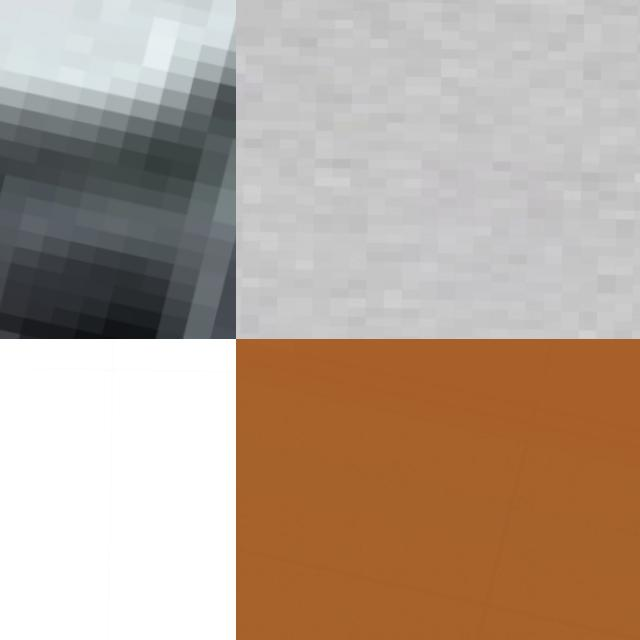0: (0, 0, 236, 339)
drone: (236, 339, 640, 640)
